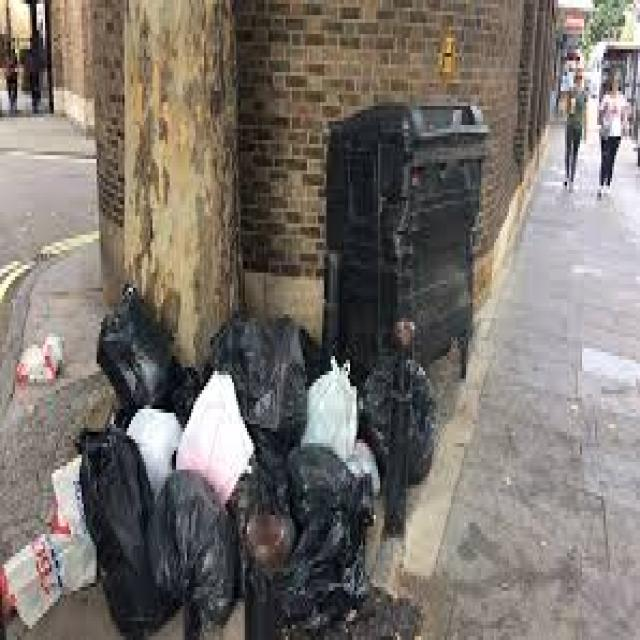garbage: (90, 303, 432, 481), (107, 481, 389, 621), (0, 436, 105, 621), (10, 326, 81, 390)
